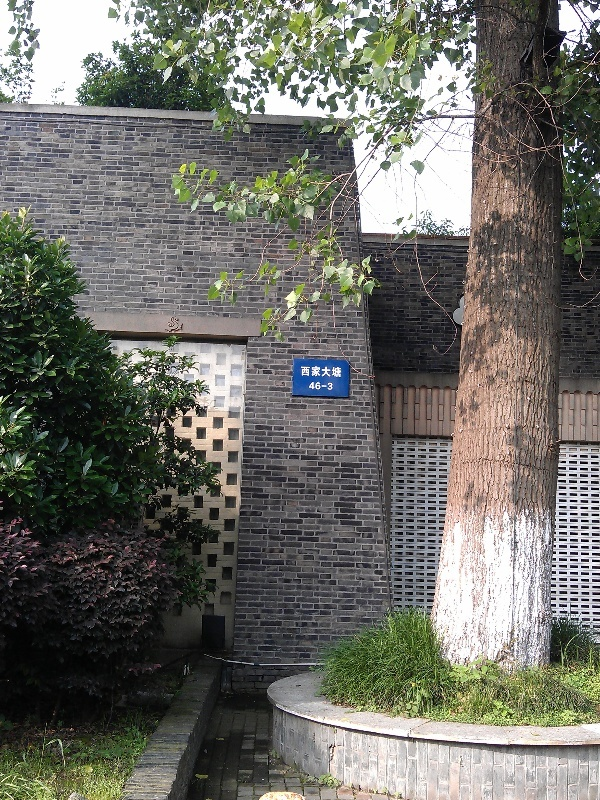text: (305, 366, 320, 379), (321, 366, 336, 379), (321, 381, 335, 392), (309, 381, 320, 392), (337, 366, 343, 379), (301, 366, 304, 379)
